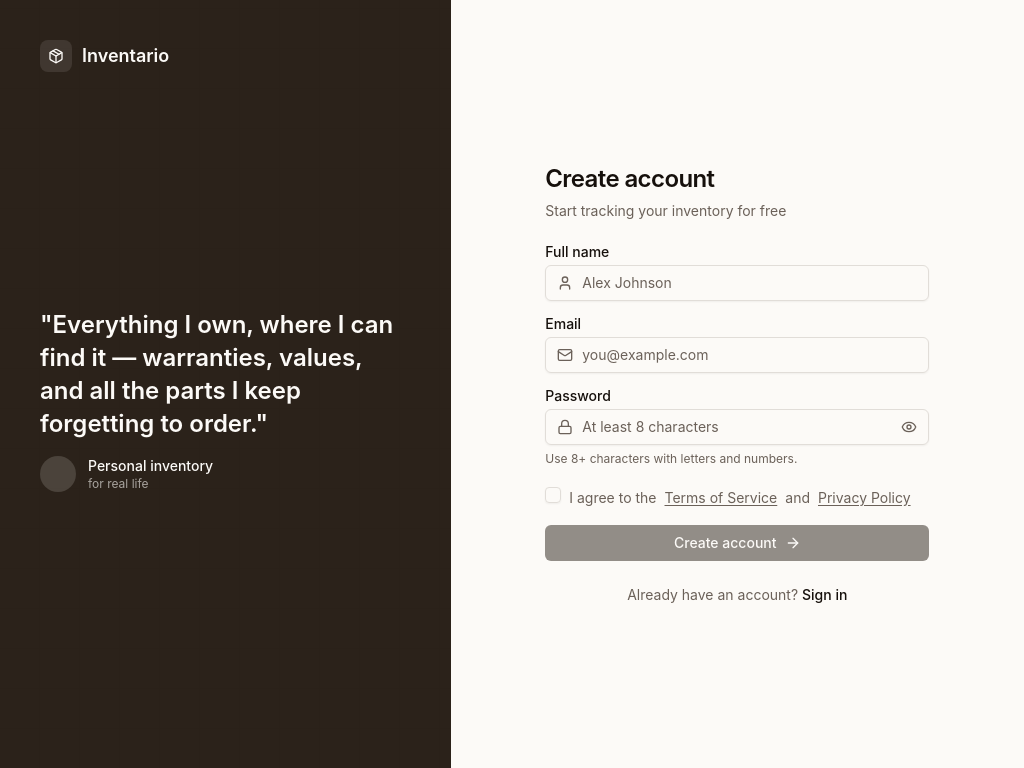
Test: <RegisterPage /> › surfaces the server error when the API returns 400
In the field with test id "name": [737, 283] box top-left (545, 265), bottom-right (929, 301), type "Alex"
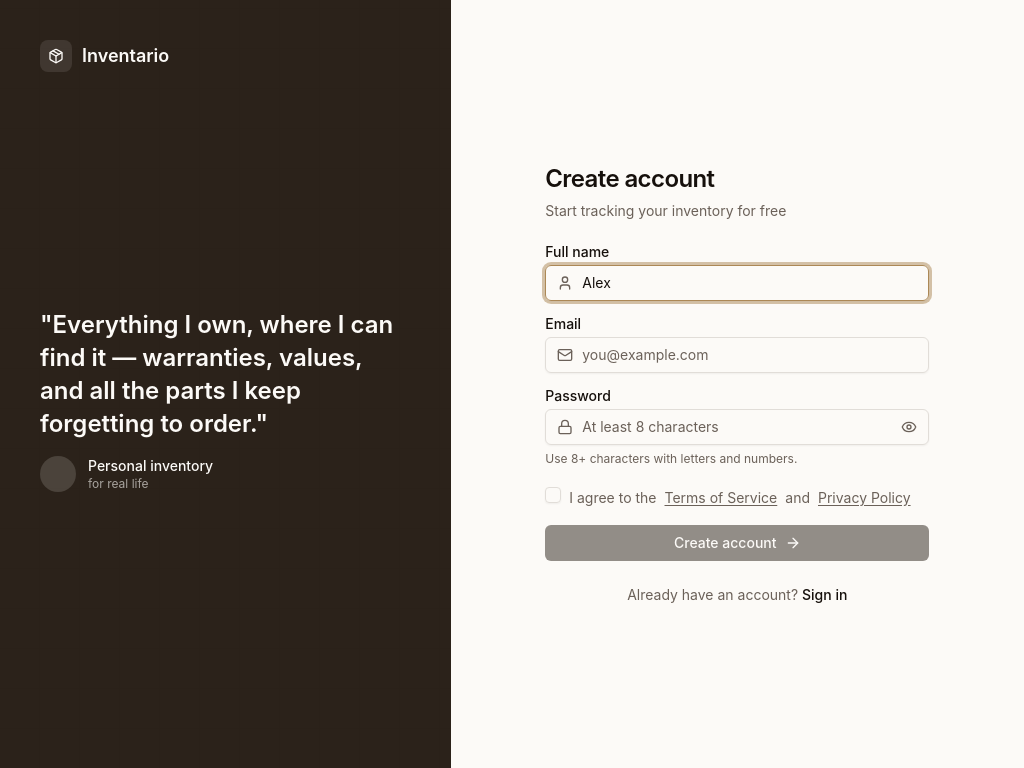
In the field with test id "email": [737, 355] box top-left (545, 337), bottom-right (929, 373), type "alex@example.com"
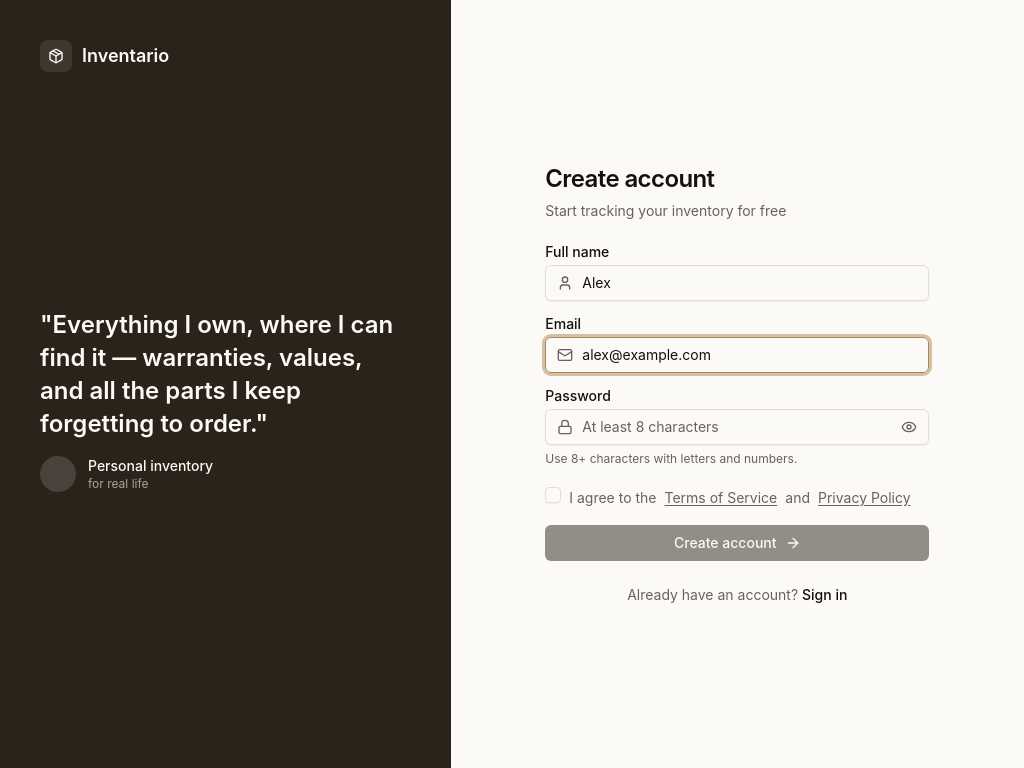
In the password field with test id "password": [737, 427] box top-left (545, 409), bottom-right (929, 445), type "secret-pw"
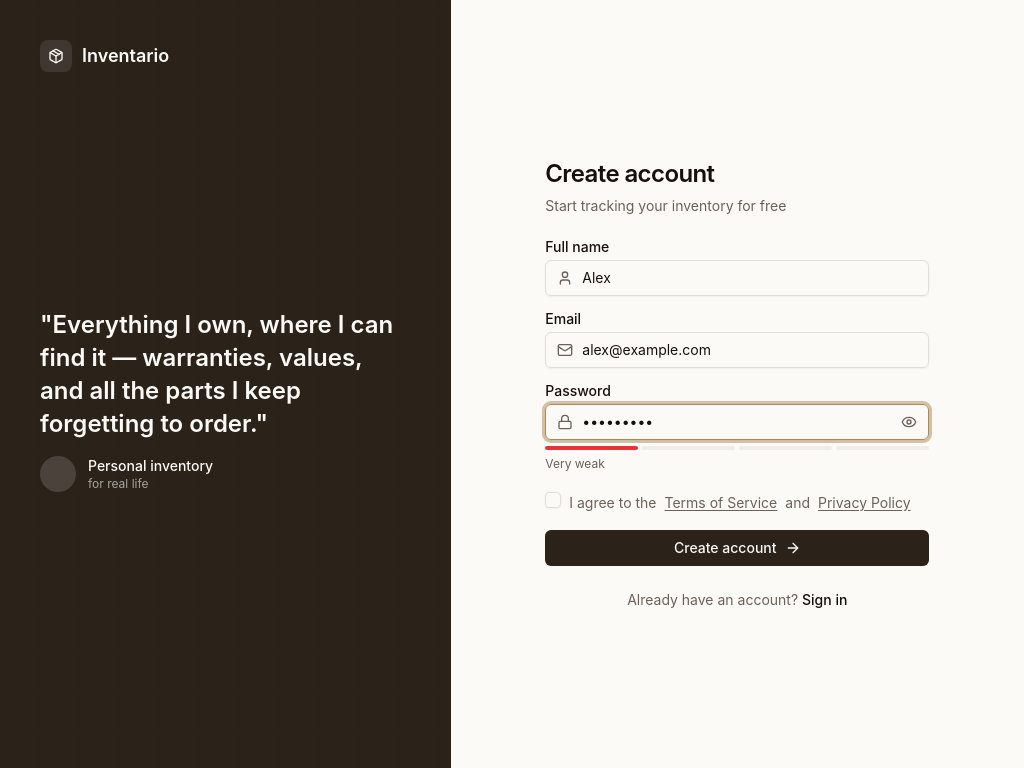
Click the checkbox with test id "terms": [553, 500] box top-left (545, 492), bottom-right (561, 508)
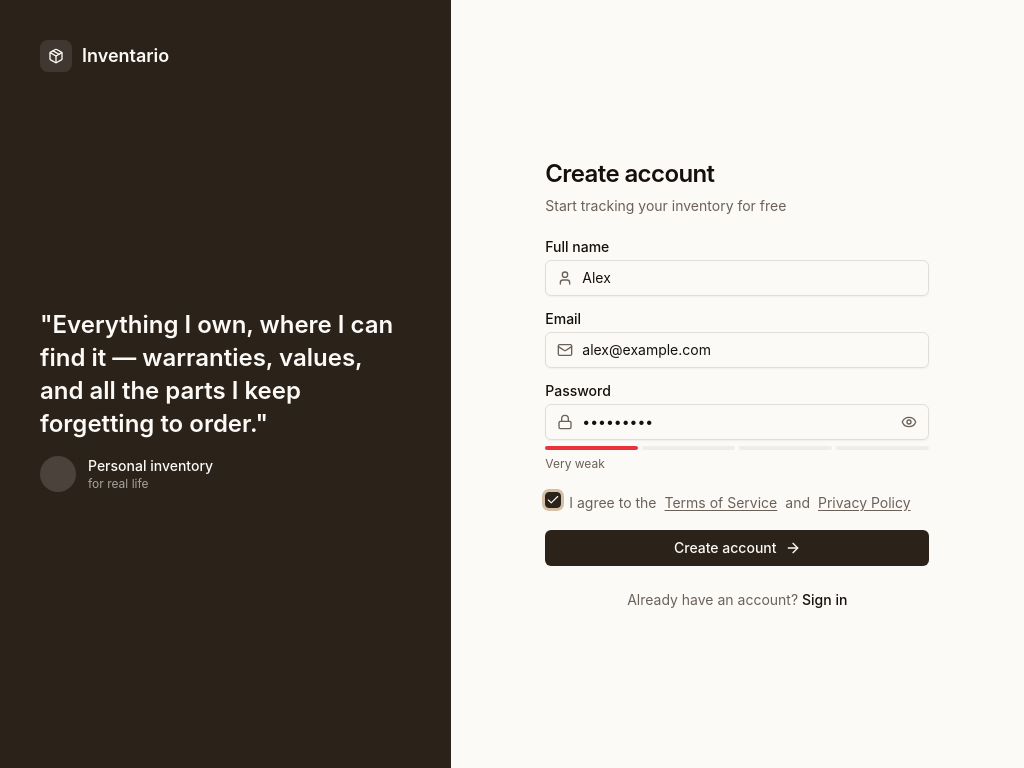
Click the button with test id "register-button": [737, 548] box top-left (545, 530), bottom-right (929, 566)
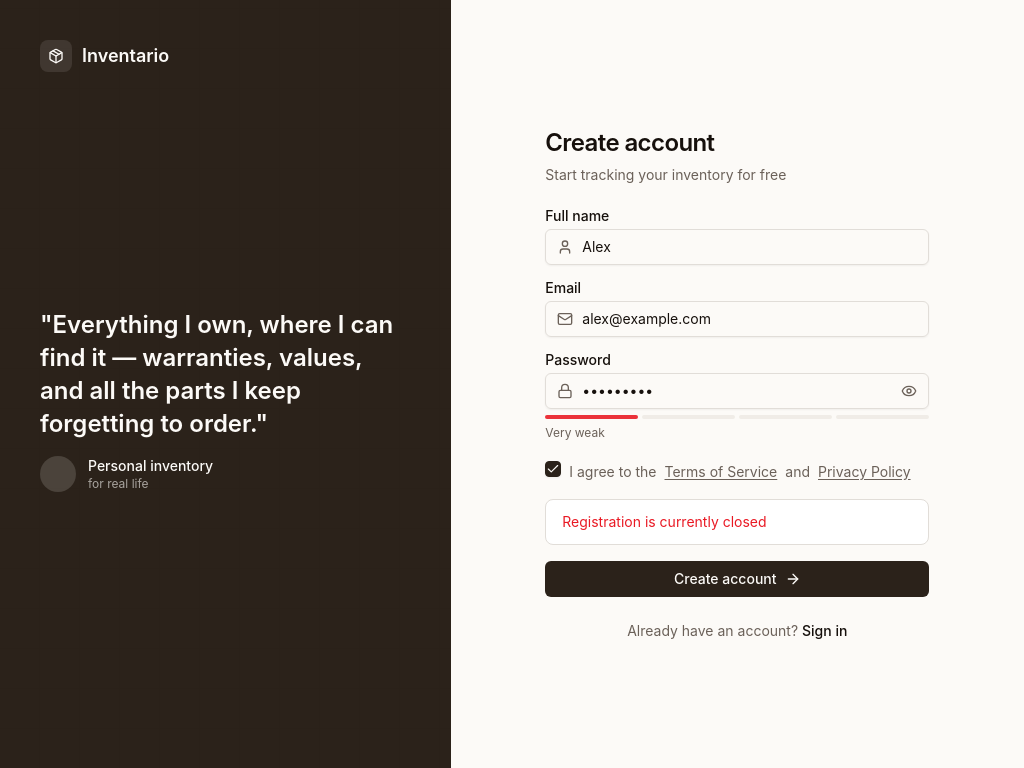
Expected: the message with test id "server-error" reads "Registration is currently closed", top-left (562, 513), bottom-right (767, 530)
